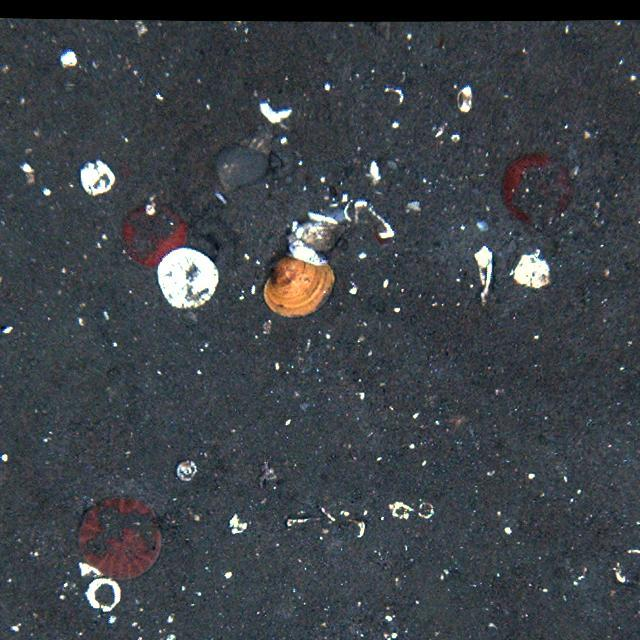whelk: (210, 120, 276, 194)
